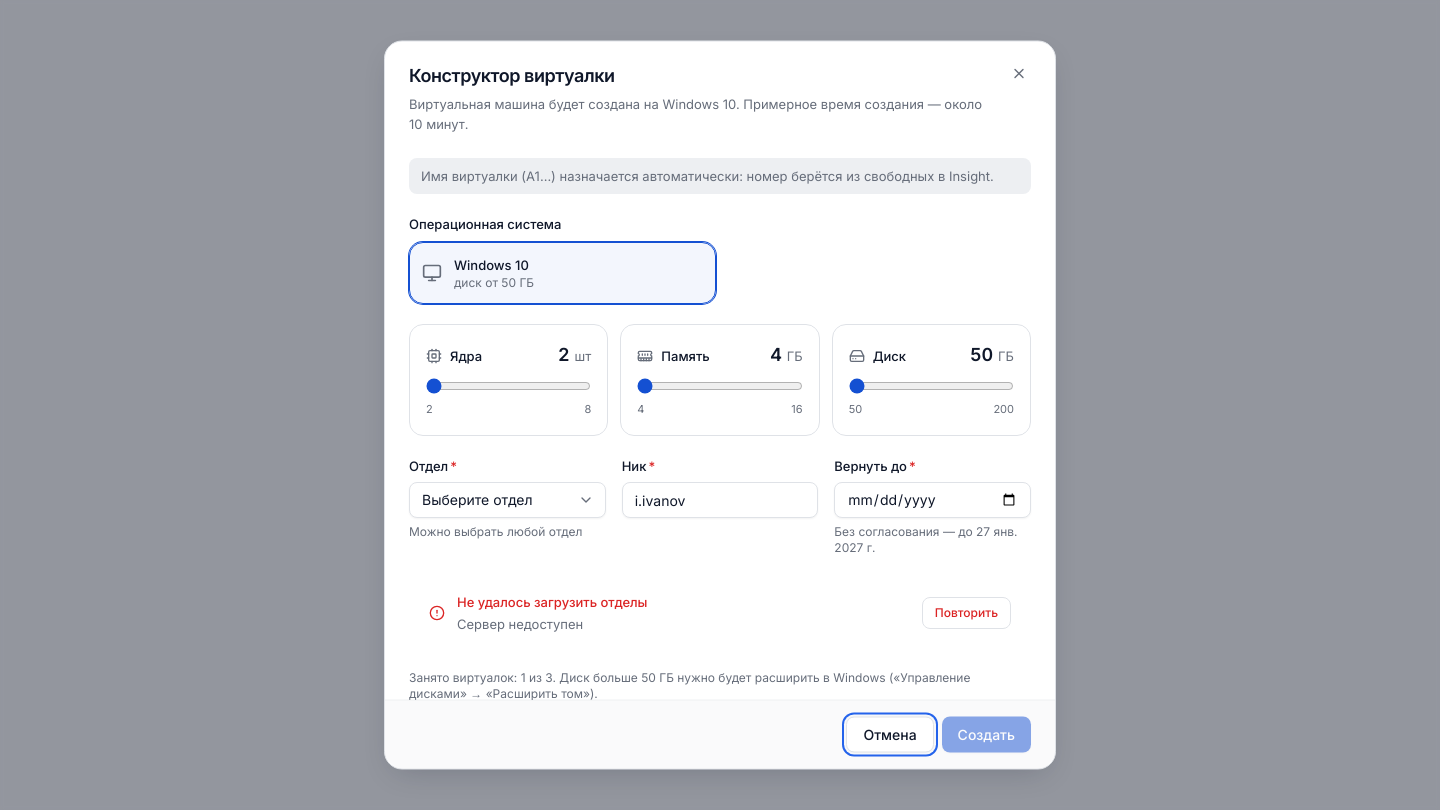
Scenario: VmBuilderDialog › ошибка загрузки отделов: сообщение и «Повторить» вместо пустого списка; повтор подгружает отделы
This screenshot has width=1440, height=810.
Expected: the text "Не удалось загрузить отделы" is shown, [457,592,648,612]
Click the button "Повторить". click: click(966, 612)
box: [922,596,1011,628]
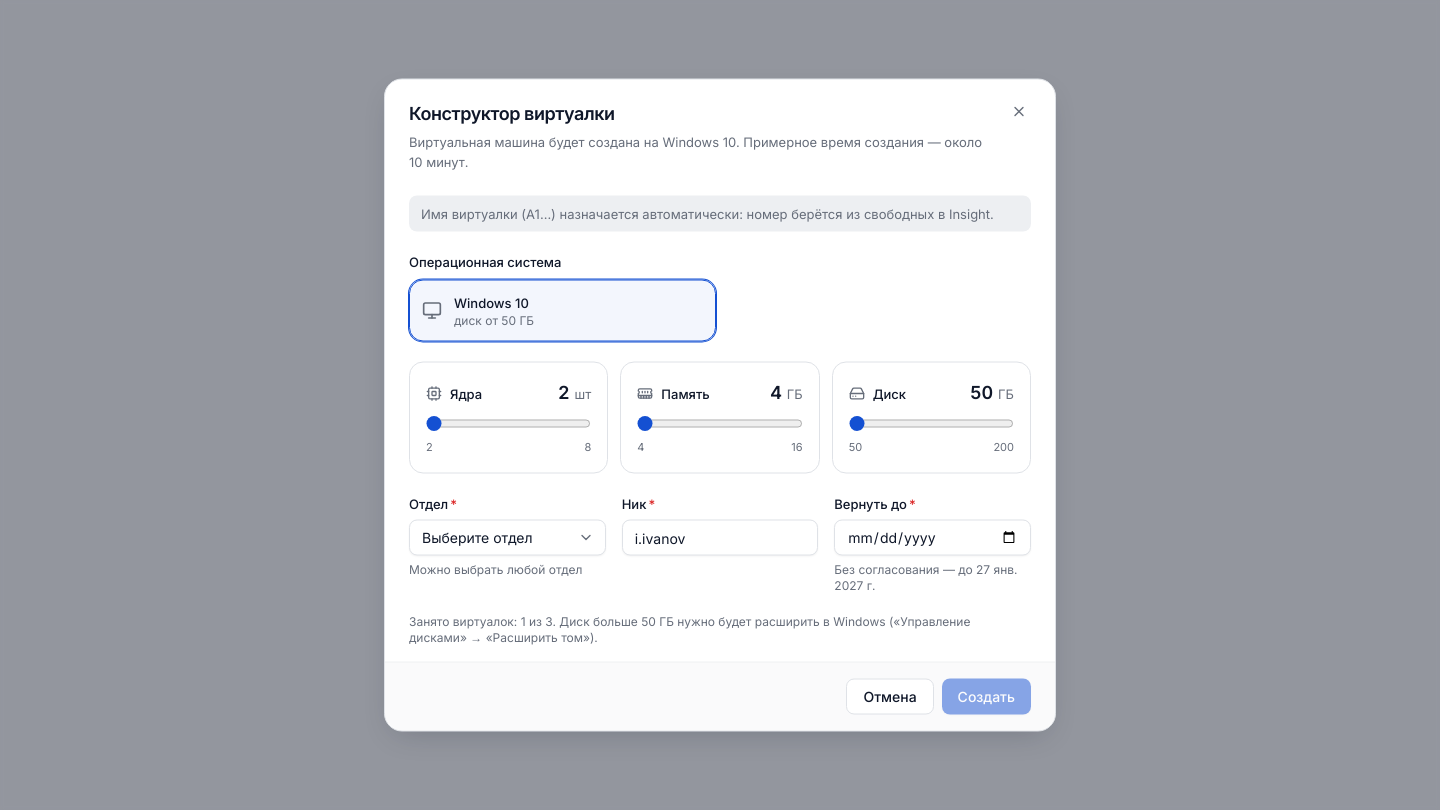
Result: the text "Не удалось загрузить отделы" is gone
